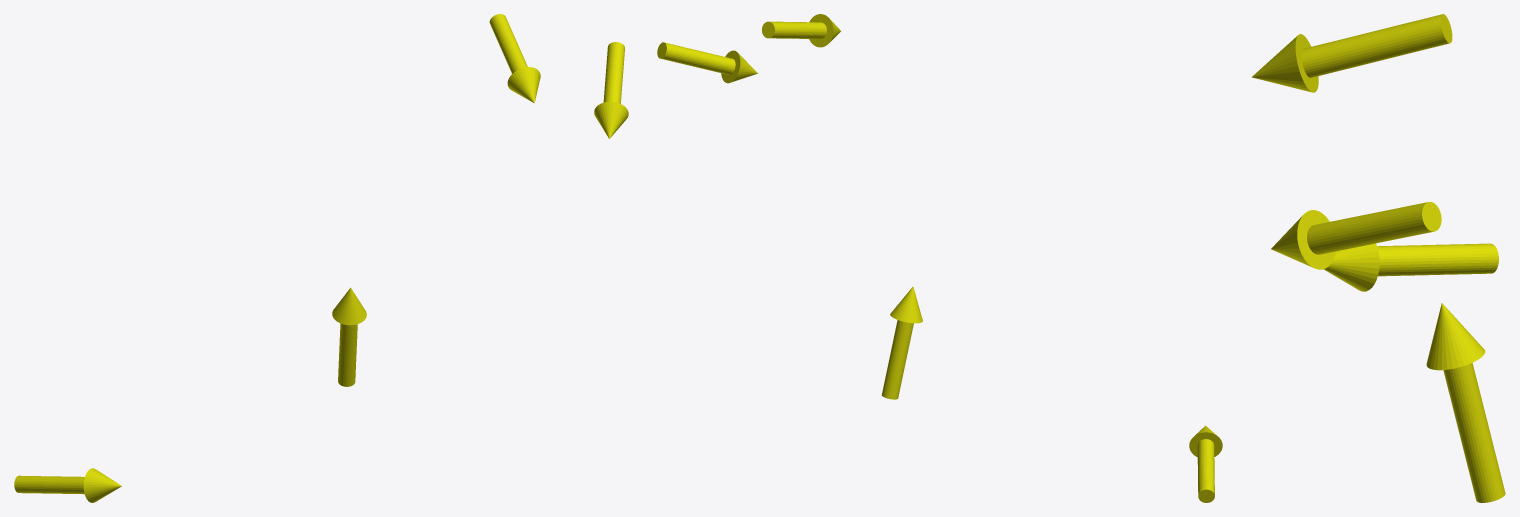
The model's file is forcemap.glb.
The picture shows the model from 3 angles, left to right: view 1: azimuth 30°, elevation 25°; view 2: azimuth 150°, elevation 25°; view 3: azimuth 270°, elevation 25°; orthographic projection. The views are drawn at different scales.
Parts seen in each view (by area): view 1: world; view 2: world; view 3: world.
Part boxes in pixels (x1,y1,x2,y2): world: (14,14,628,502); world: (657,14,1222,502); world: (1252,14,1505,502).
Bounding box in the file's own units: 0.1579 × 0.0952 × 0.0336.
